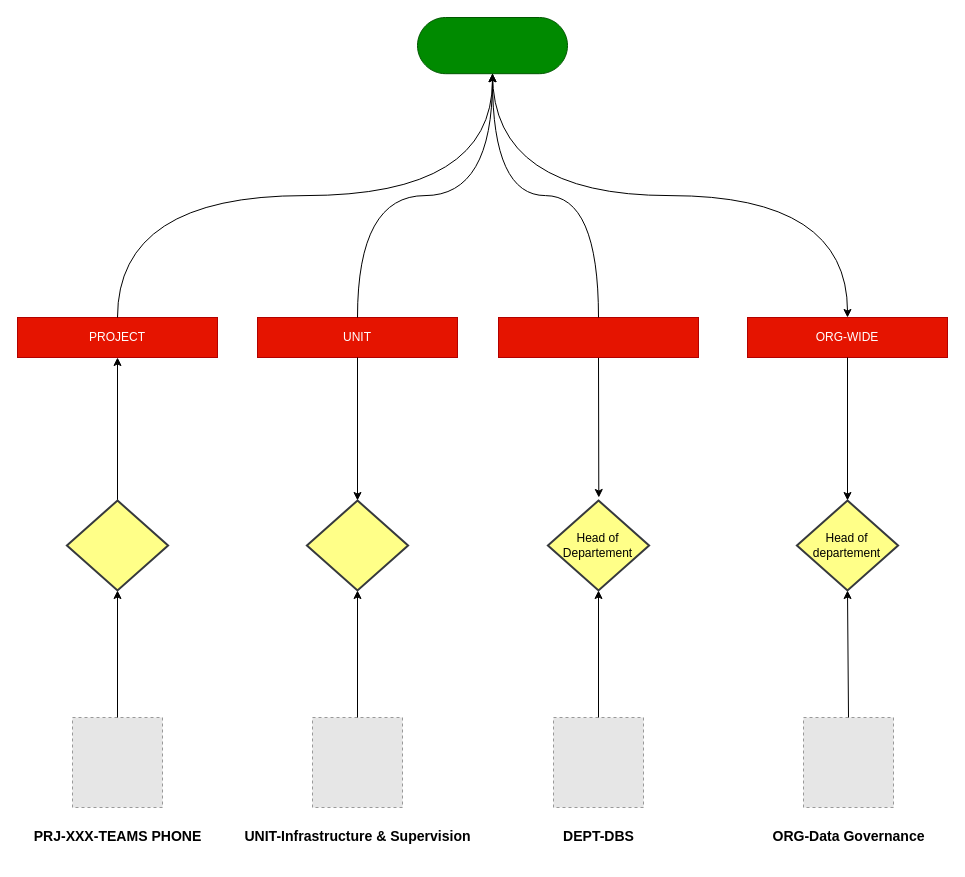
The diagram is 965 pixels wide and 877 high, and some of its shapes have lost their labels. Grey dashed boxes stand in for pictures. Here are the shapes that lost their labels. From the top down, the box of each, then its label:
(416, 16, 568, 74): NEW TEAMS REQUEST
(498, 316, 698, 358): DEPARTEMENT
(65, 499, 169, 591): Project Manager
(305, 499, 409, 591): Head of Unit
